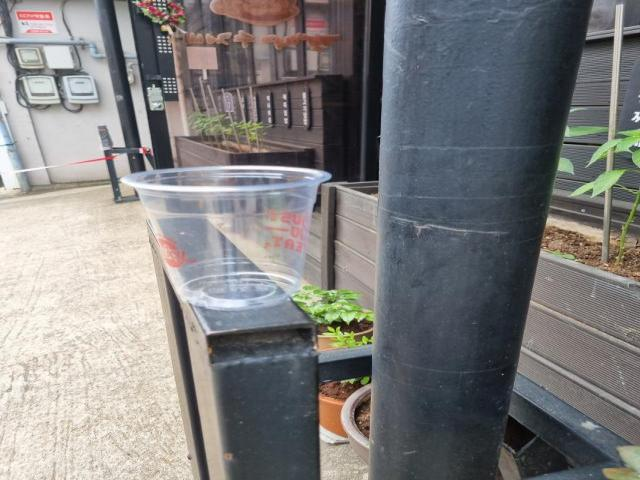cup: (110, 159, 347, 313)
